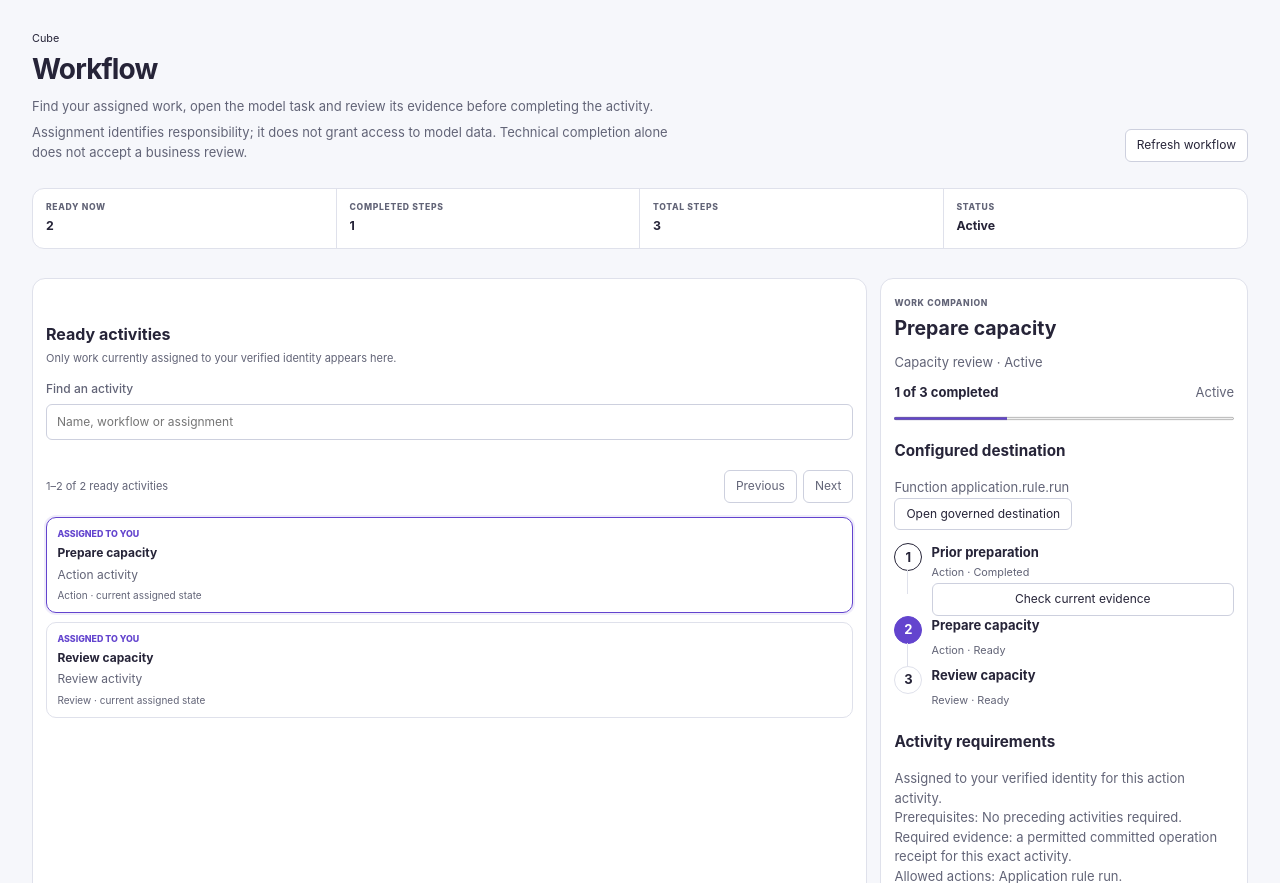
checks a completed prerequisite on demand and preserves its historical status
Click the button with aria-label "Check current evidence for Prior preparation" at (1083, 599), box [932,583,1234,616]
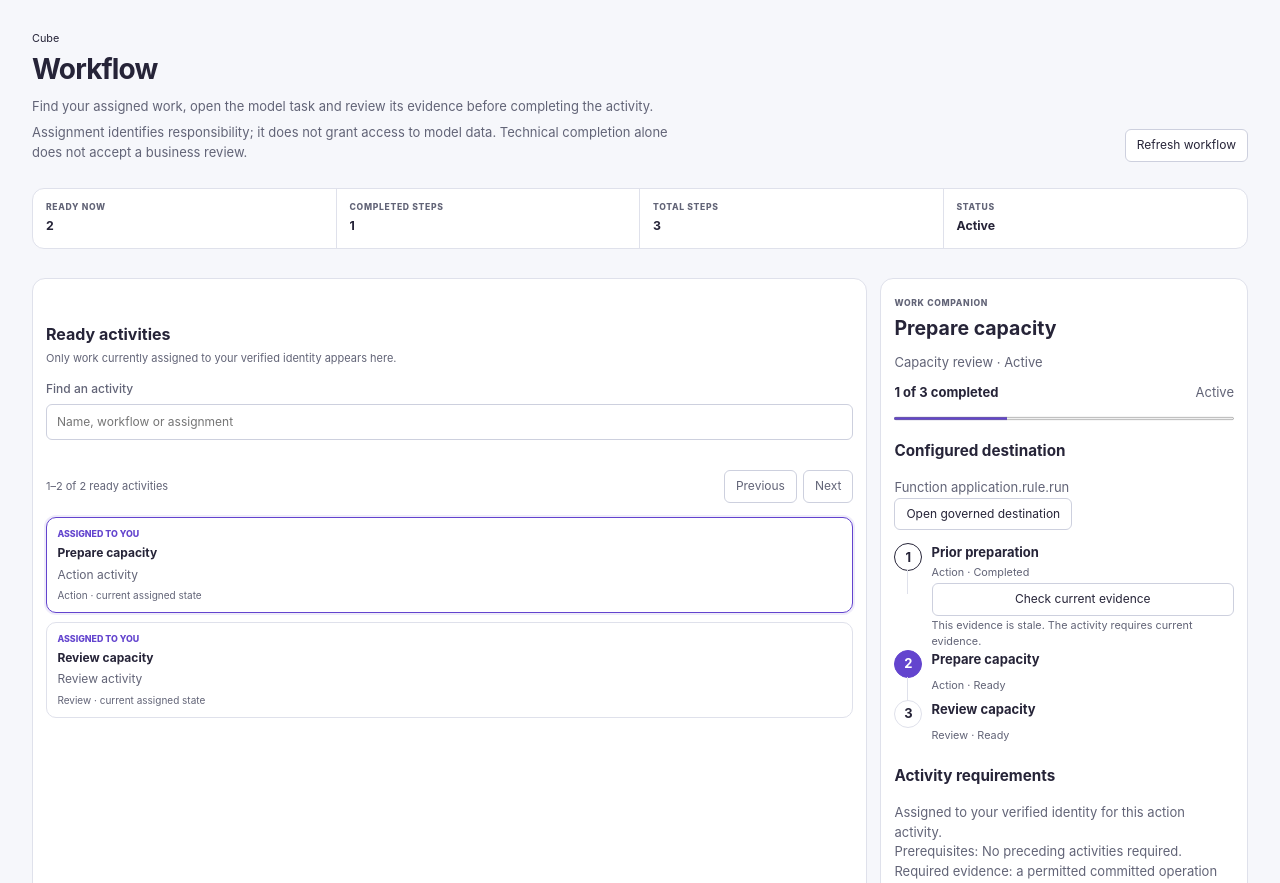
Expected: the text "Action · Completed" is shown, [932,566,1029,579]
Now the text "This evidence is stale. The activity requires current evidence." is shown, box [932,618,1234,650]
